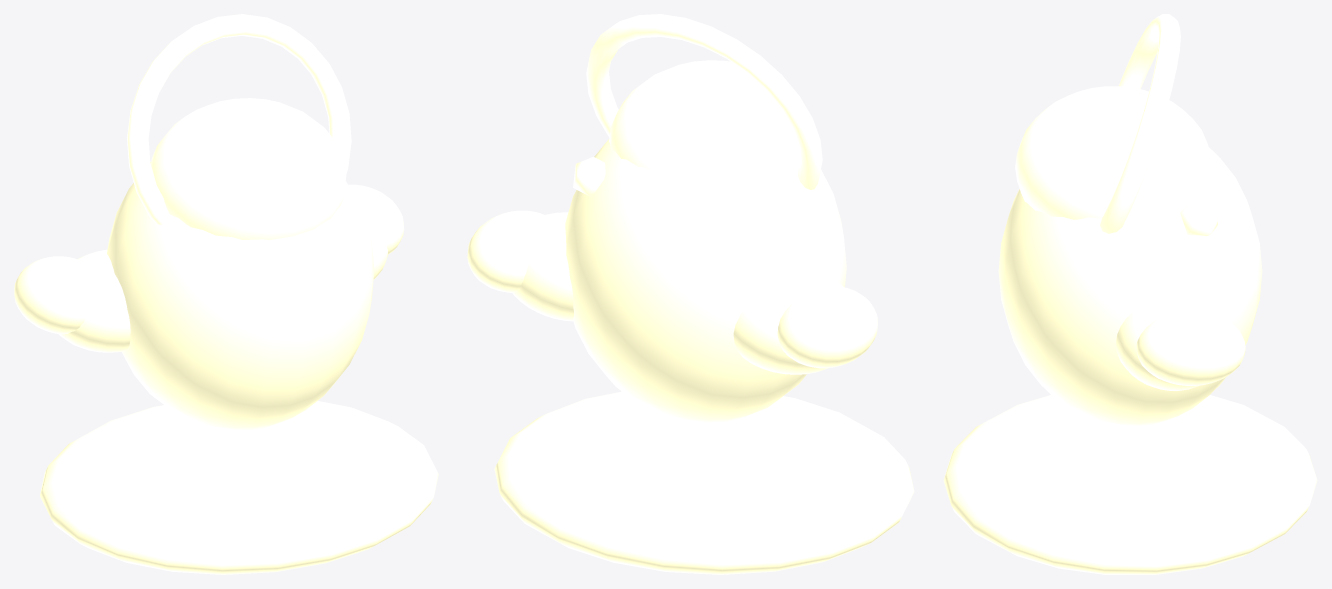
Rendered from gel_light.glb.
3 renders of one model, left to right at view 1: azimuth 30°, elevation 25°; view 2: azimuth 150°, elevation 25°; view 3: azimuth 270°, elevation 25°, orthographic. The views are drawn at different scales.
Parts seen in each view (by area): view 1: gel_light; view 2: gel_light; view 3: gel_light.
Boxes of the visible parts, x1=… form: gel_light: x1=14, y1=14, x2=438, y2=574; gel_light: x1=467, y1=14, x2=914, y2=574; gel_light: x1=943, y1=14, x2=1317, y2=574.
Bounding box in the file's own units: 1.57 × 1.98 × 1.36.
